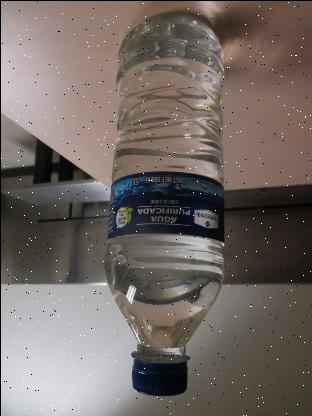Plastic Bottle: (88, 6, 236, 408)
